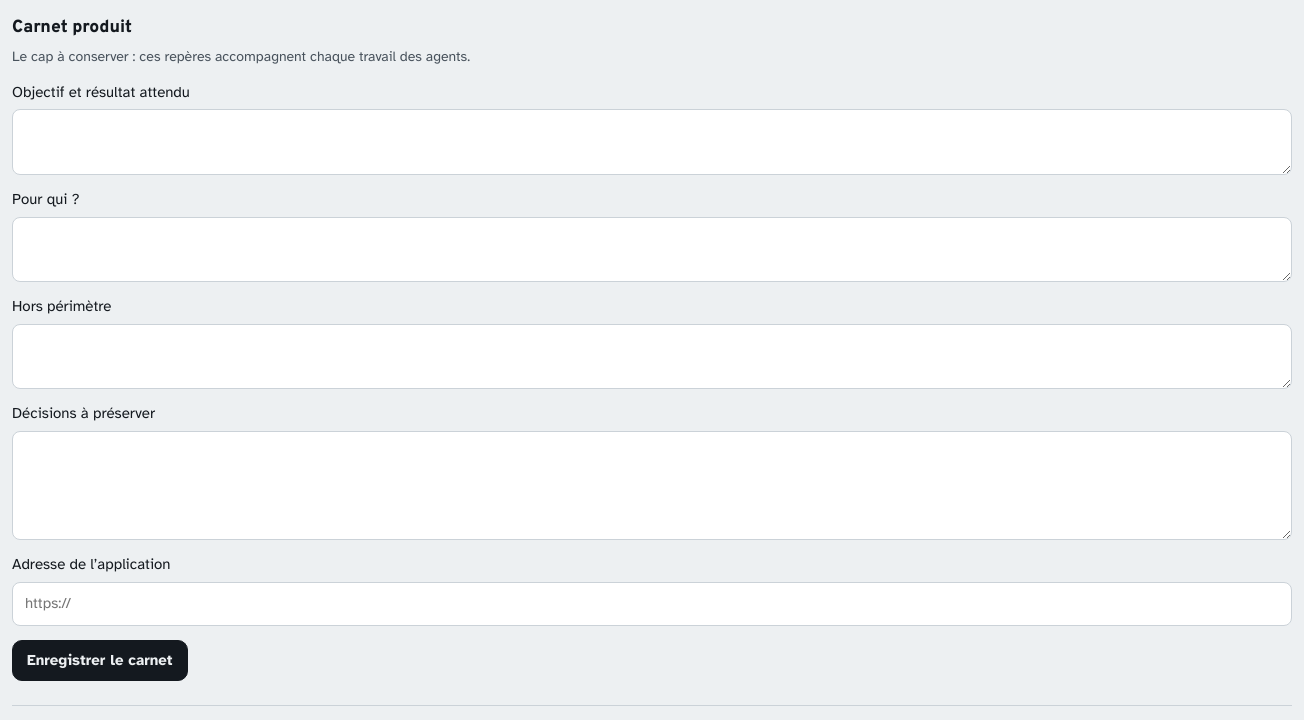
Test: product journey › saves the product journal and displays its persisted feedback
The width and height of the screenshot is (1304, 720).
Type "Pas de réseau social" into the text box labelled "Hors périmètre". click: (652, 357)
box: x1=12 y1=324 x2=1292 y2=390
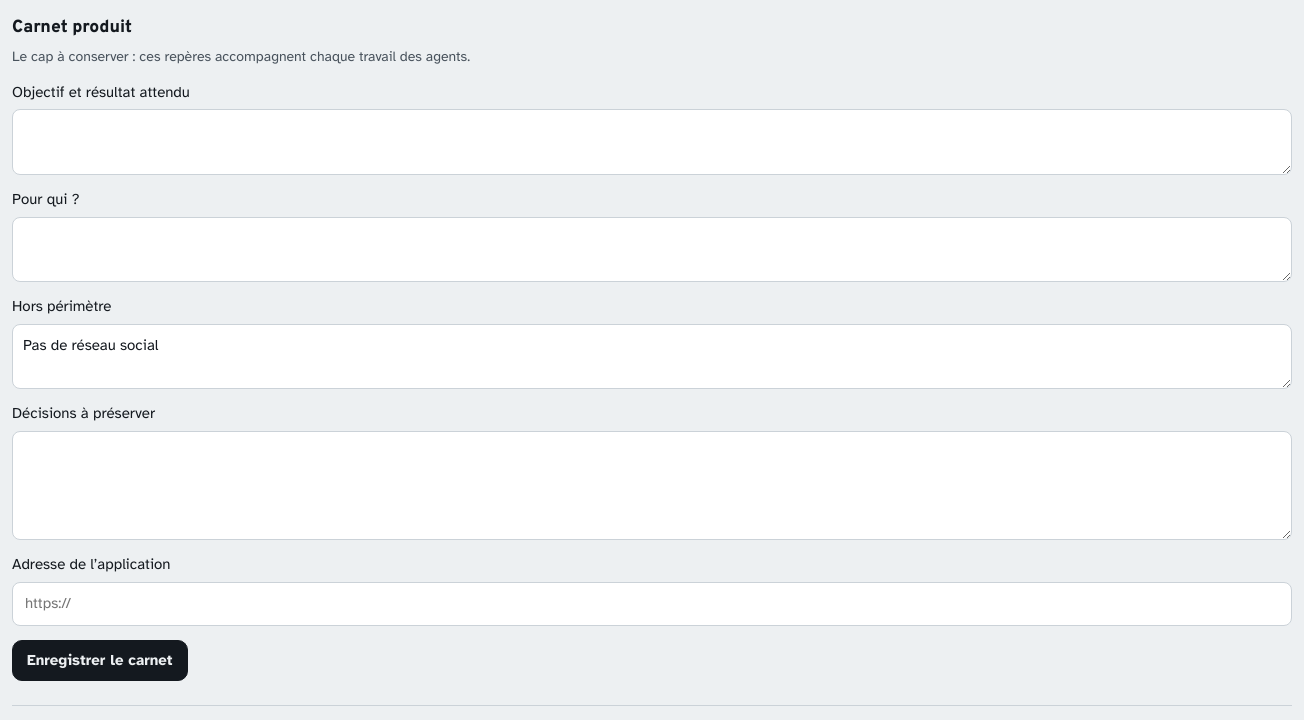
Click the button "Enregistrer le carnet". click: (100, 661)
box: x1=12 y1=640 x2=188 y2=682
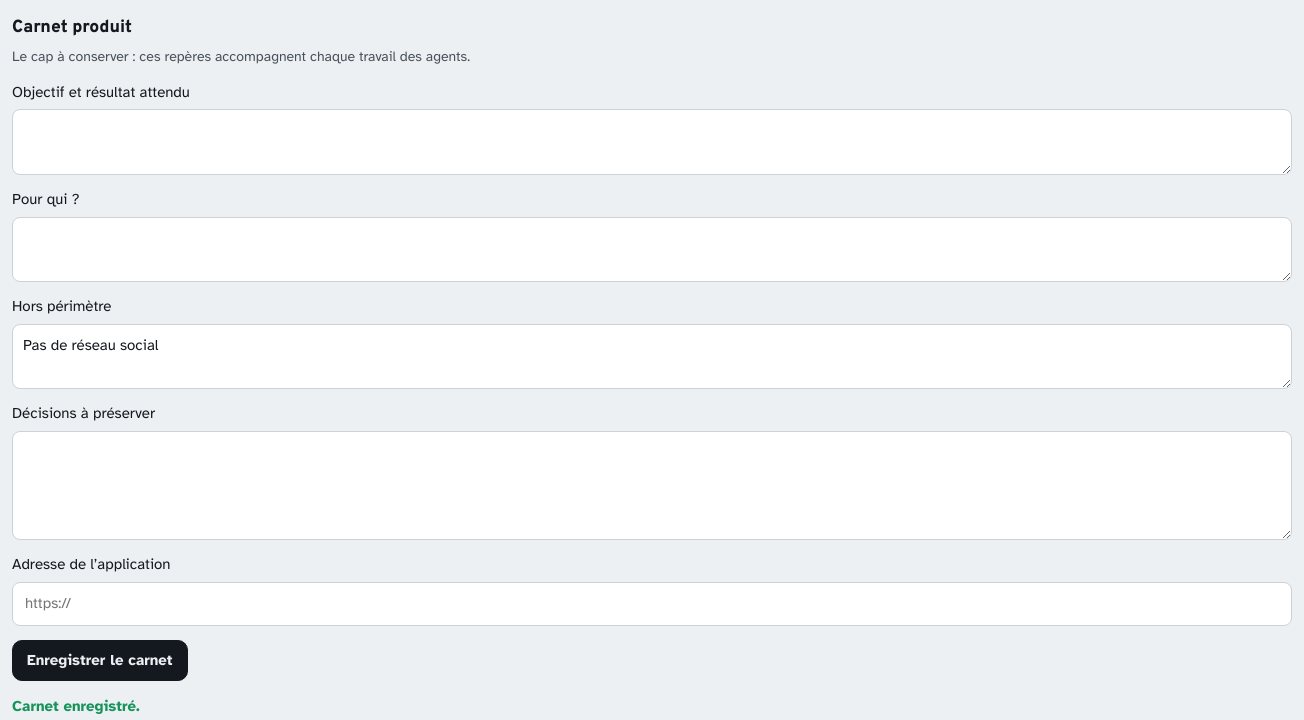
Check: the message reads "Carnet enregistré.", box x1=12 y1=698 x2=140 y2=716
